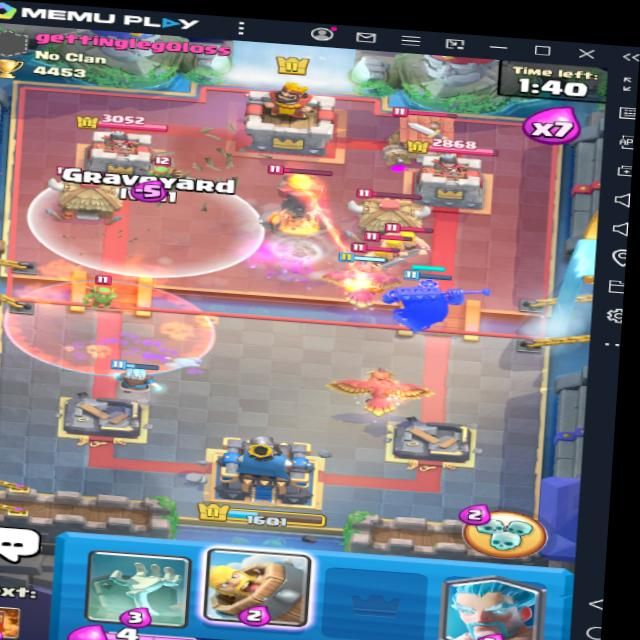barbarian: (350, 240, 402, 268), (393, 225, 436, 252), (368, 232, 410, 257)
barbarian-hut: (381, 103, 467, 163)
goblin-hut: (350, 186, 430, 246), (51, 166, 135, 221)
inferno-tower: (260, 161, 333, 236)
spear-goblin: (144, 156, 177, 187), (79, 277, 117, 303)
